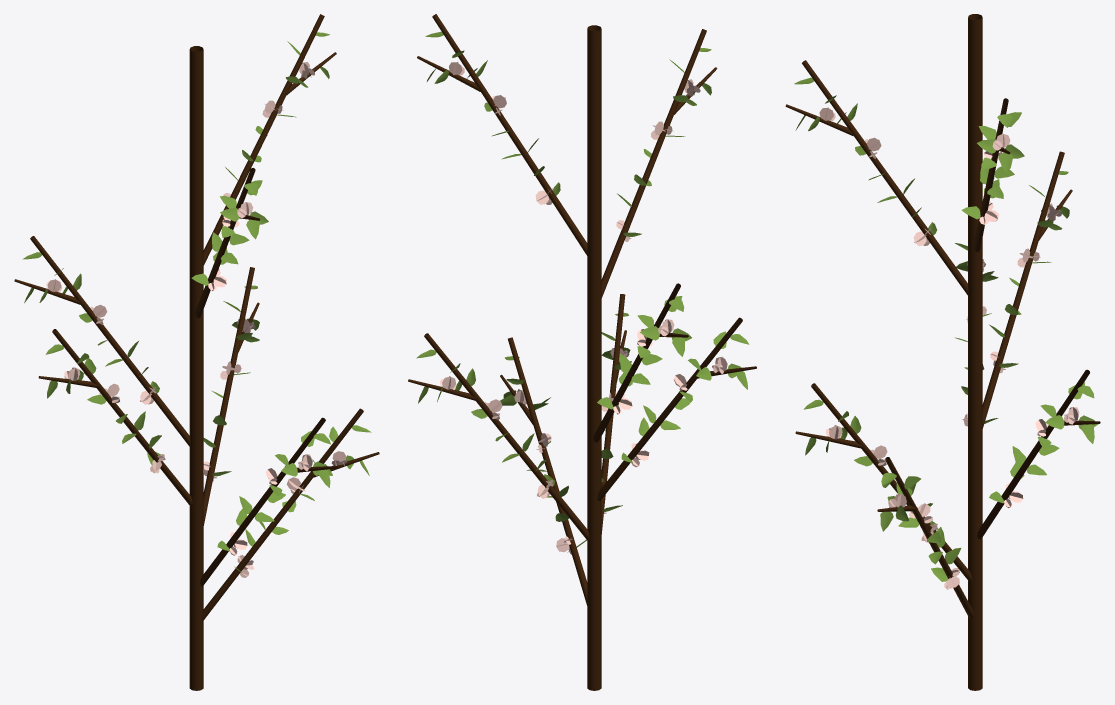
Rendered from CottonPlant 1.fbx.
3 views of the same model, side by side, from view 1: azimuth 30°, elevation 25°; view 2: azimuth 150°, elevation 25°; view 3: azimuth 270°, elevation 25° (orthographic). The views are drawn at different scales.
Parts seen in each view (by area): view 1: CottonPlant; view 2: CottonPlant; view 3: CottonPlant.
Part boxes in pixels (x1,y1,x2,y2): CottonPlant: (14, 14, 379, 690); CottonPlant: (408, 14, 756, 690); CottonPlant: (785, 14, 1100, 690).
Size of the model in its own units: 20.19 by 39.37 by 16.76.
